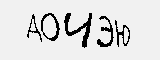Д: (26, 12, 41, 42)
П: (40, 12, 61, 42)
Ч: (62, 11, 96, 50)
Э: (97, 13, 114, 49)
Ю: (114, 18, 134, 49)
